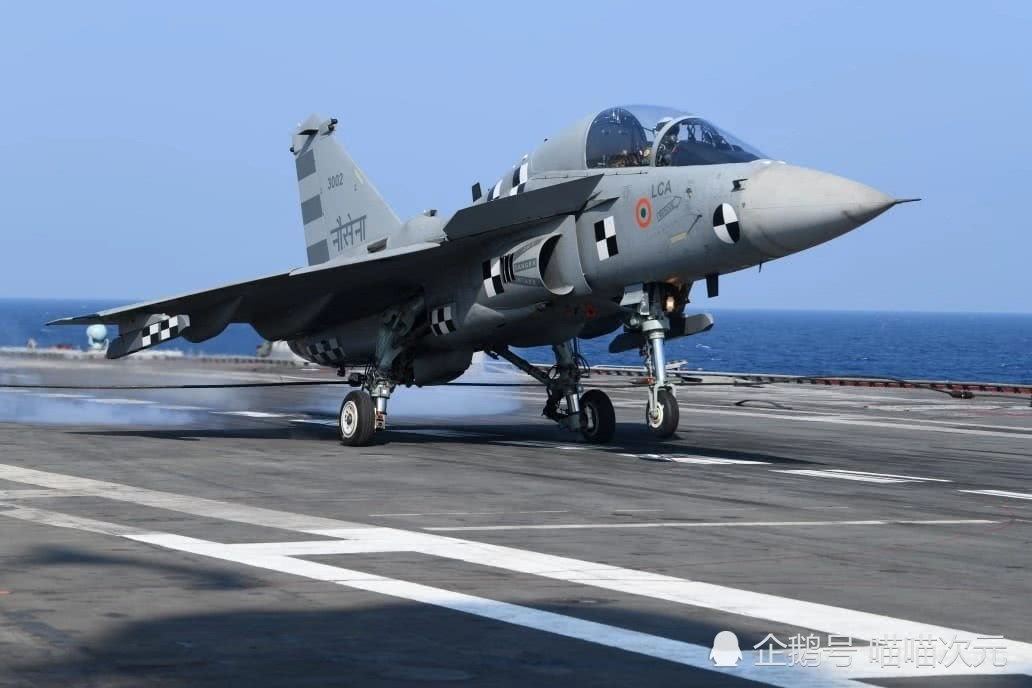airplane: (33, 99, 928, 450)
